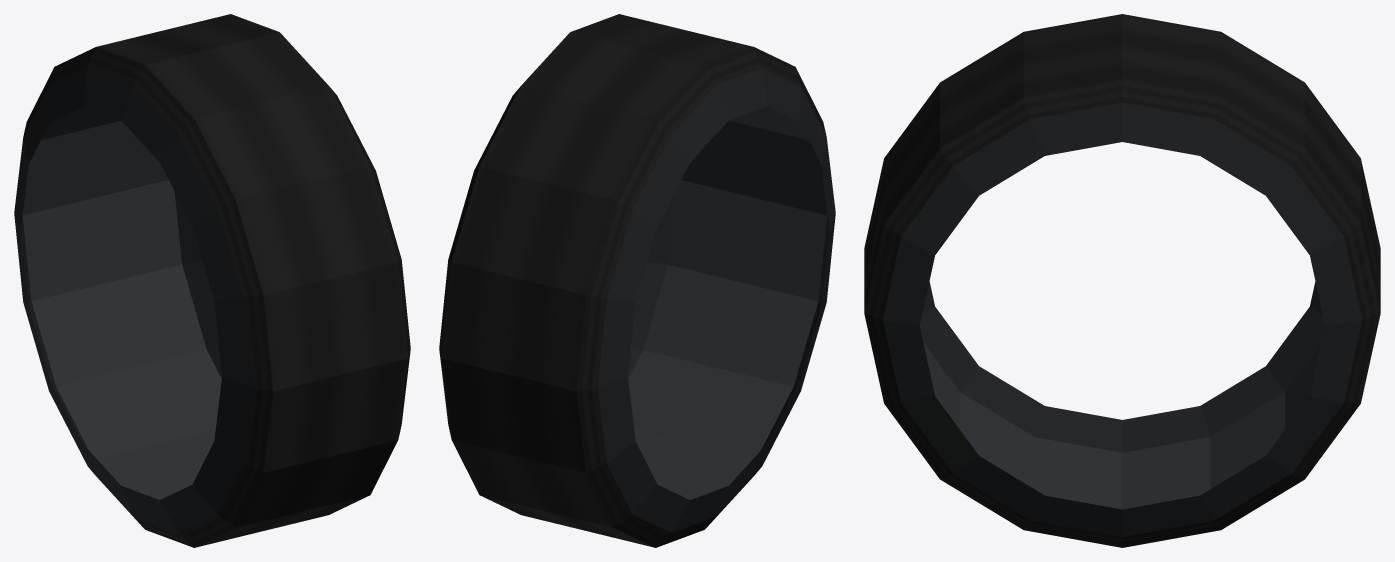
File: tire_05_low_profile.obj
3 renders of one model, left to right at view 1: azimuth 30°, elevation 25°; view 2: azimuth 150°, elevation 25°; view 3: azimuth 270°, elevation 25°, orthographic.
Parts seen in each view (by area): view 1: tire_05_low_profile; view 2: tire_05_low_profile; view 3: tire_05_low_profile.
Boxes of the visible parts, left/top/right/bottom form: tire_05_low_profile: left=14, top=14, right=410, bottom=547; tire_05_low_profile: left=439, top=14, right=835, bottom=547; tire_05_low_profile: left=864, top=14, right=1380, bottom=547.
Bounding box in the file's own units: 0.2875 × 0.7 × 0.7.
